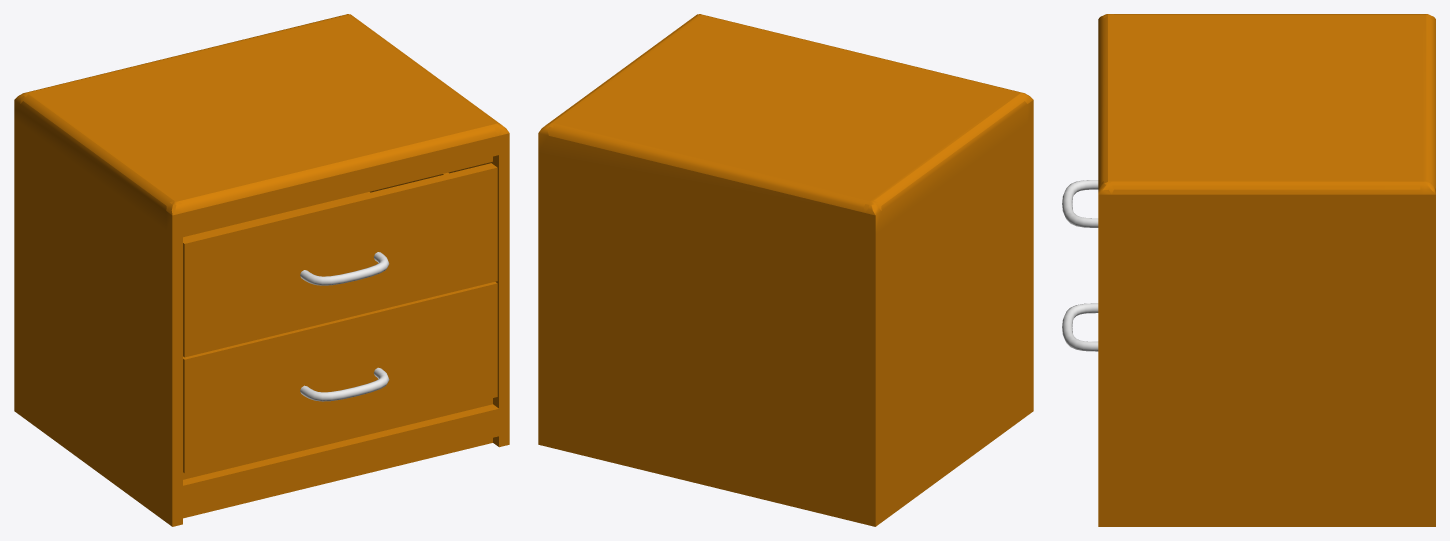
File: Bedsidetable.fbx
3 renders of one model, left to right at view 1: azimuth 30°, elevation 25°; view 2: azimuth 150°, elevation 25°; view 3: azimuth 270°, elevation 25°, orthographic. The views are drawn at different scales.
Visible parts, largest first — view 1: Cube.007, Cube.006, Cube.008; view 2: Cube.007; view 3: Cube.007, Cube.008, Cube.006.
Part boxes in pixels (x1,y1,x2,y2): Cube.007: (14, 14, 509, 526); Cube.006: (183, 163, 497, 357); Cube.008: (183, 282, 497, 473); Cube.007: (538, 14, 1033, 526); Cube.007: (1098, 14, 1435, 526); Cube.008: (1062, 303, 1098, 351); Cube.006: (1062, 180, 1098, 227).
Size of the model in its own units: 6.4 by 5.8 by 5.76.
